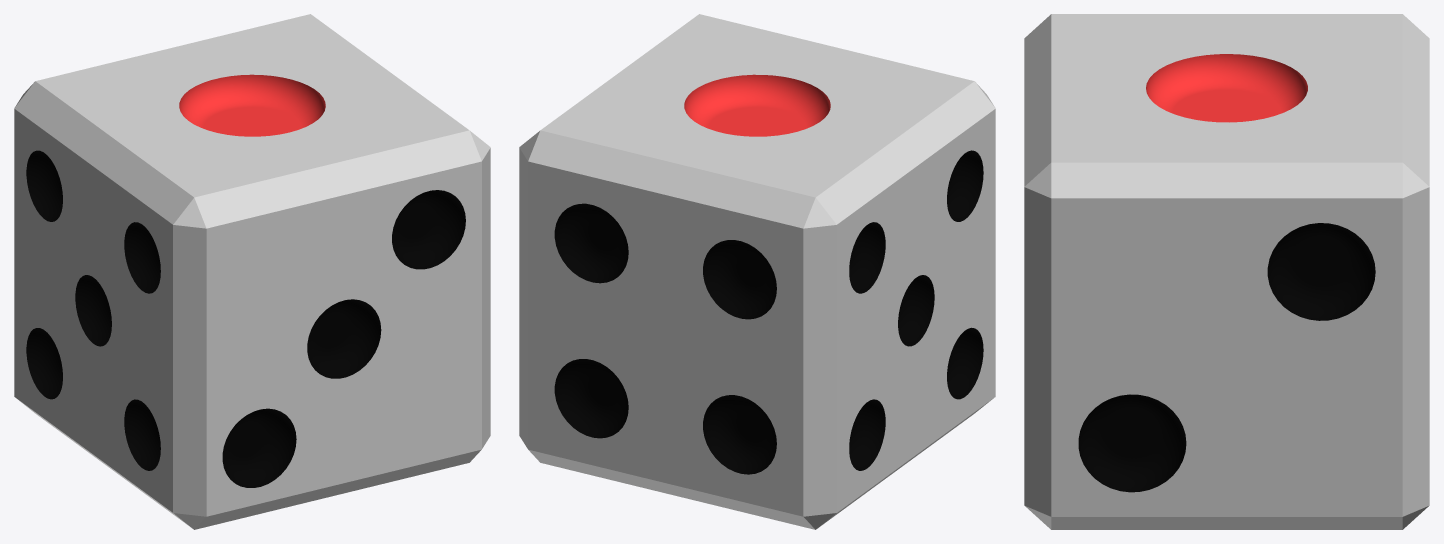
File: dies.glb
3 views of the same model, side by side, from view 1: azimuth 30°, elevation 25°; view 2: azimuth 150°, elevation 25°; view 3: azimuth 270°, elevation 25° (orthographic). The views are drawn at different scales.
Visible parts, largest first — view 1: Part1; view 2: Part1; view 3: Part1.
Part boxes in pixels (x1,y1,x2,y2): Part1: [14, 14, 490, 529]; Part1: [519, 14, 995, 529]; Part1: [1024, 14, 1429, 529].
Size of the model in its own units: 0.03 by 0.03 by 0.03.
